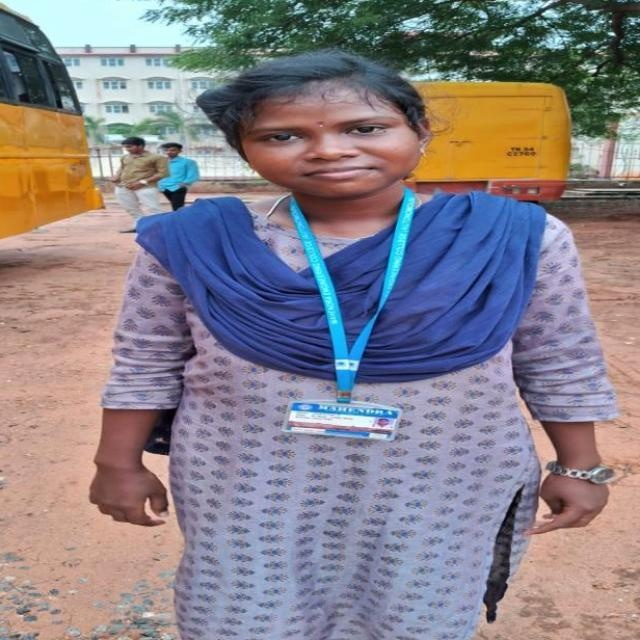ID_card: (284, 215, 399, 442)
